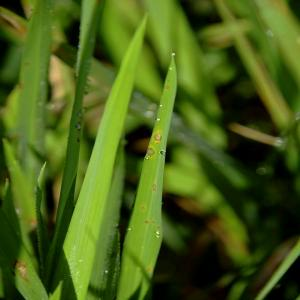1 RiceBlast: (134, 142, 160, 168), (148, 120, 174, 146)
